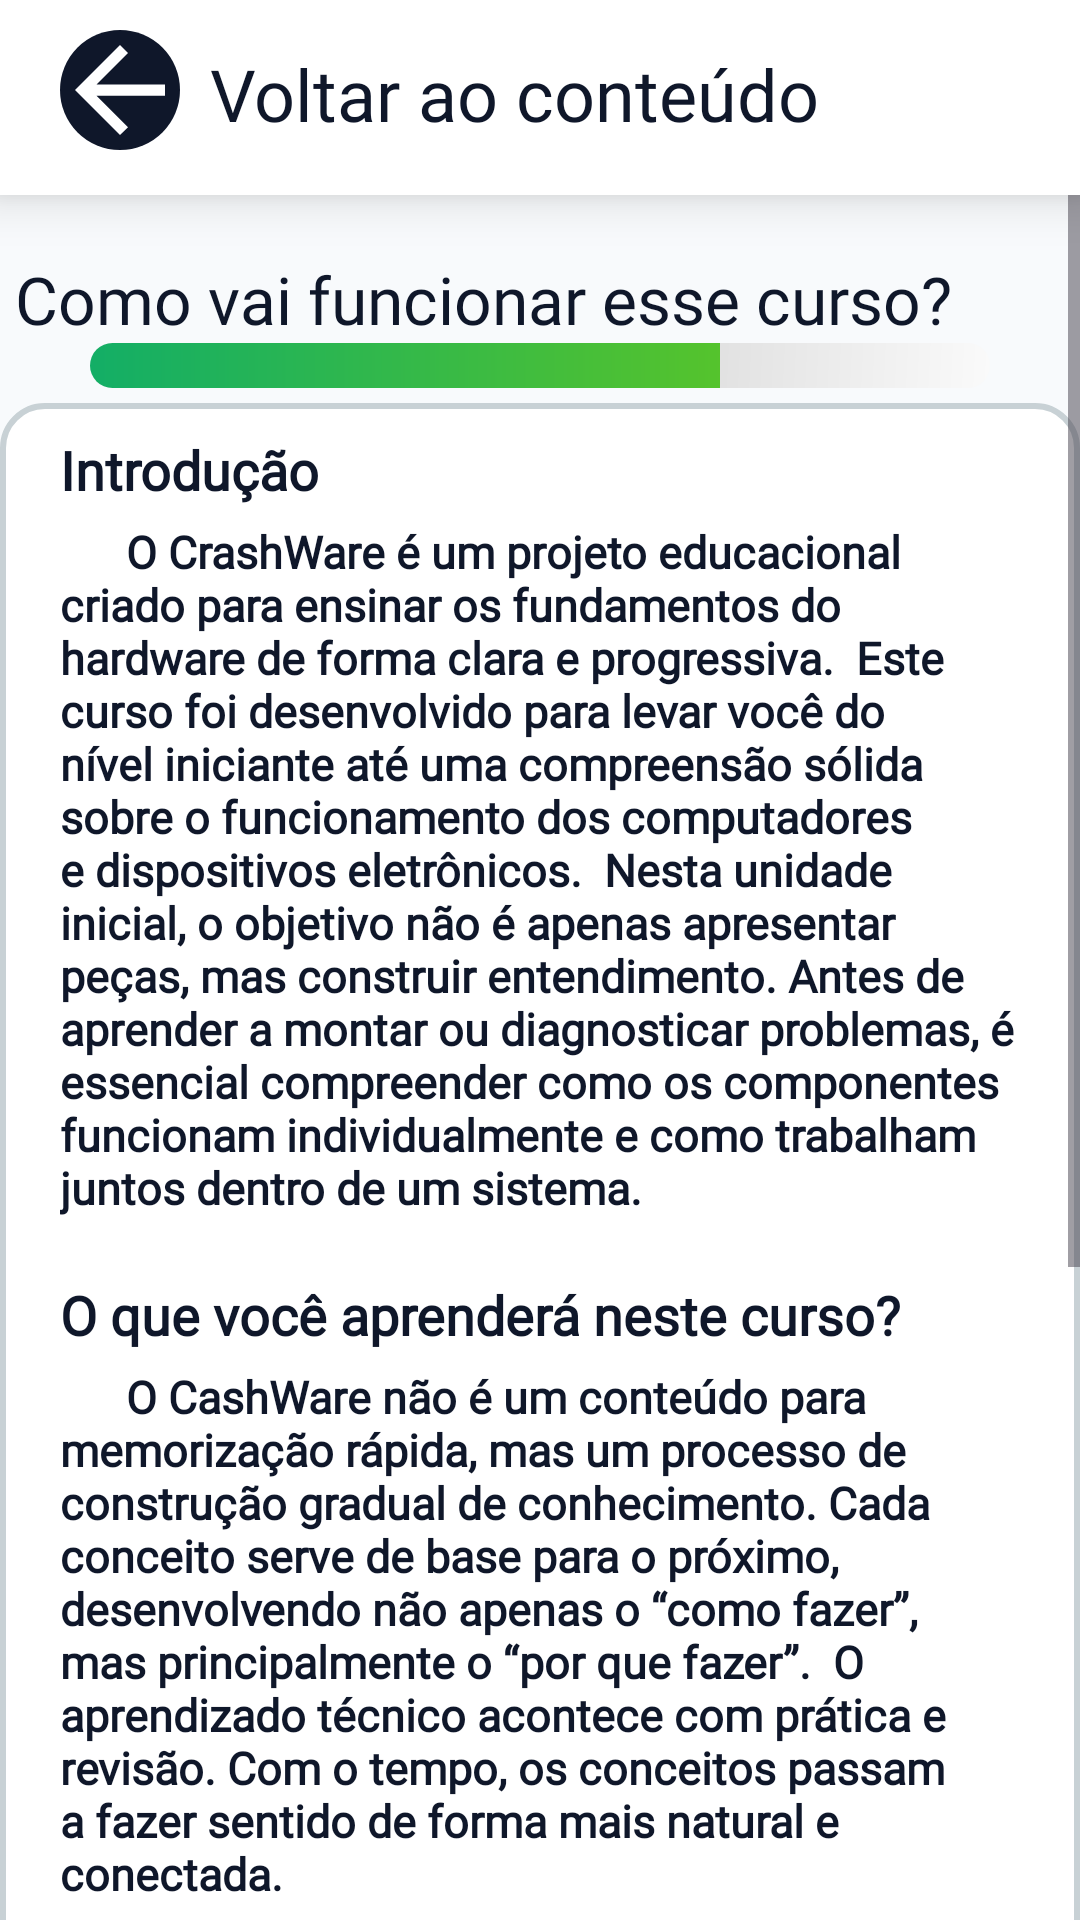

Named icons in this screenshot (1080px x 1920px) and their bounding boxes, box(x1, y1, x2, y2):
seta: box(75, 45, 165, 135)
